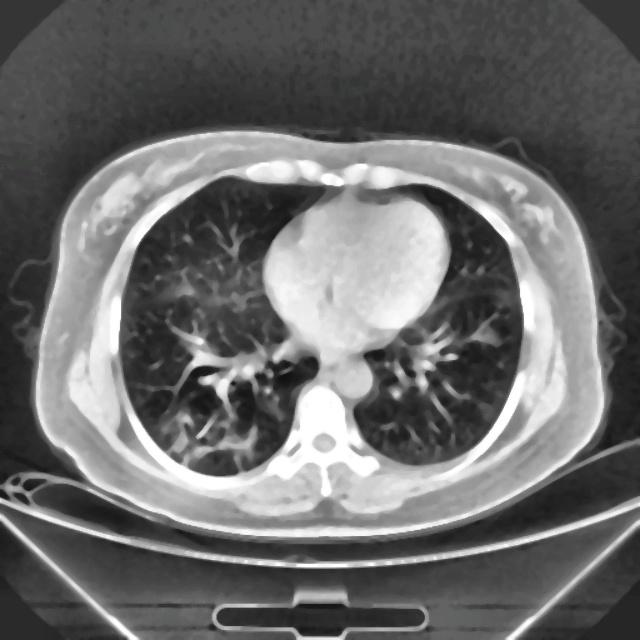covid: (26, 126, 620, 542)
